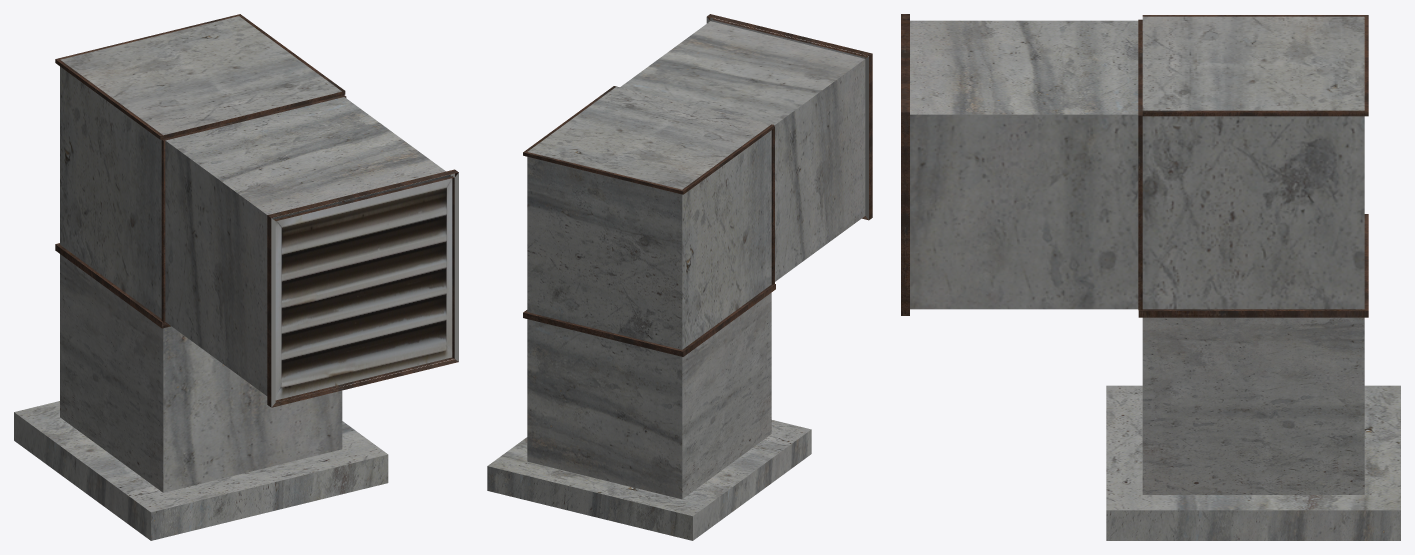
The model's file is Roof_S04.fbx.
The picture shows the model from 3 angles, left to right: view 1: azimuth 30°, elevation 25°; view 2: azimuth 150°, elevation 25°; view 3: azimuth 270°, elevation 25°; orthographic projection. The views are drawn at different scales.
Parts seen in each view (by area): view 1: Rf_01 (4); view 2: Rf_01 (4); view 3: Rf_01 (4).
Part boxes in pixels (<box>): Rf_01 (4): <box>14,14,458,540</box>; Rf_01 (4): <box>487,14,872,540</box>; Rf_01 (4): <box>901,14,1400,540</box>.
Bounding box in the file's own units: 100 × 156 × 170.
